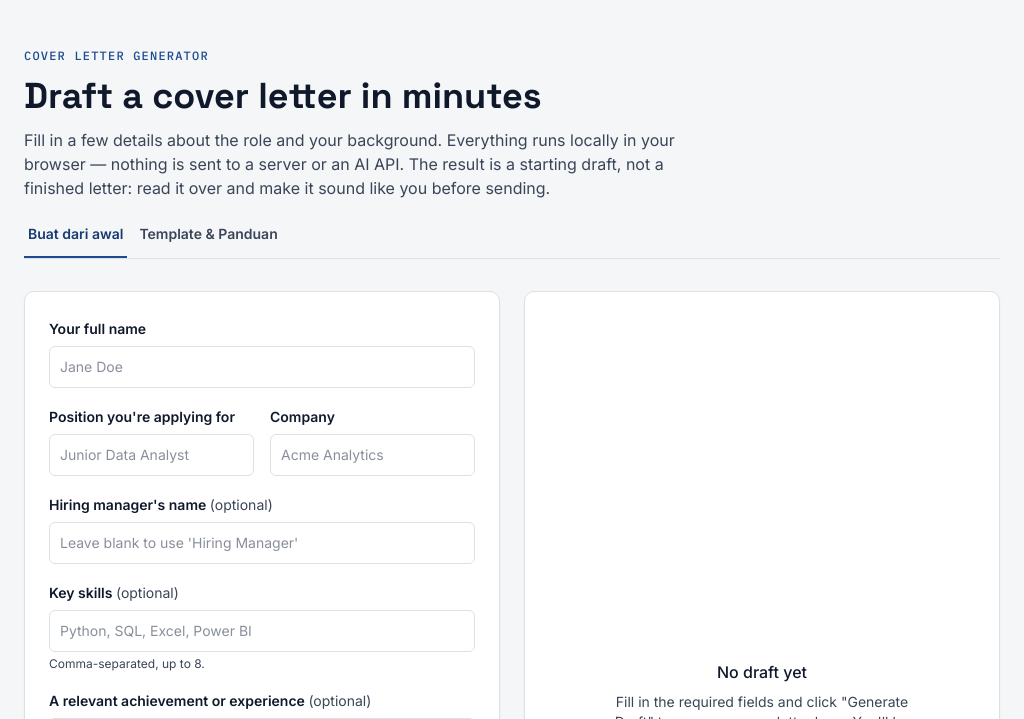
it: CoverLetter — Templates & Guide tab › switches to the templates tab and lists every template
What coordinates should you click on to do the following:
click the button "Template & Panduan"
I would click on:
 (209, 241)
Its box is top-left (135, 224), bottom-right (282, 258).
(page scrolled)
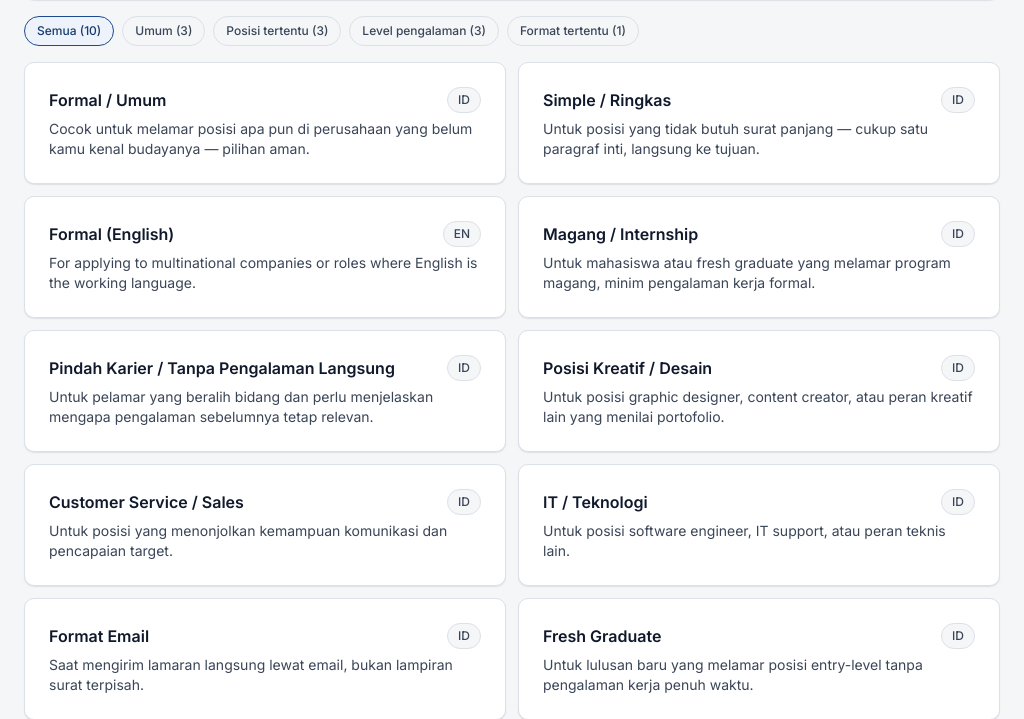
Check: the text "Formal / Umum" is shown, box top-left (49, 88), bottom-right (166, 112)
Check: the text "Simple / Ringkas" is shown, box top-left (543, 88), bottom-right (671, 112)
Check: the text "Formal (English)" is shown, box top-left (49, 222), bottom-right (174, 246)
